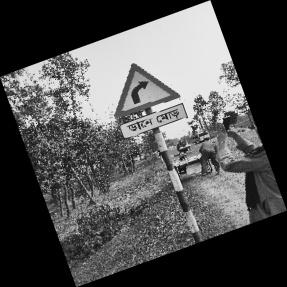Right-turn: (114, 63, 187, 140)
